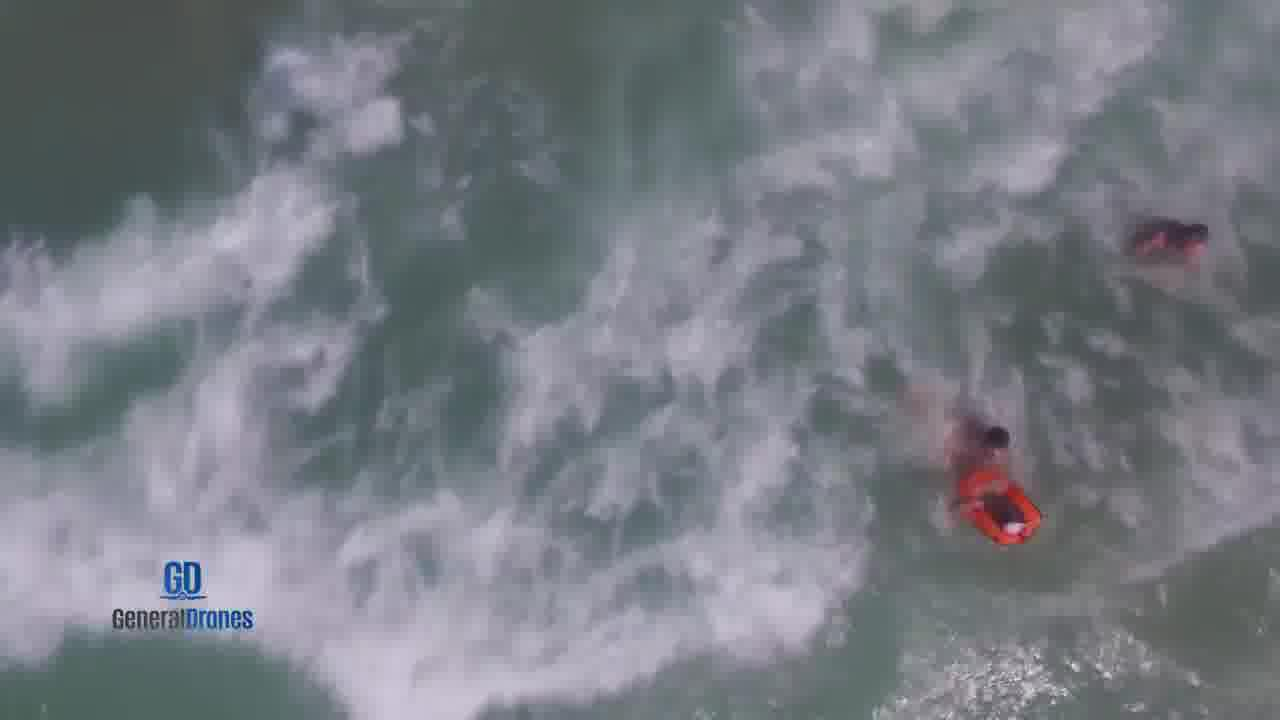human: (938, 454, 1035, 527), (1125, 204, 1219, 274), (954, 403, 1040, 468)
